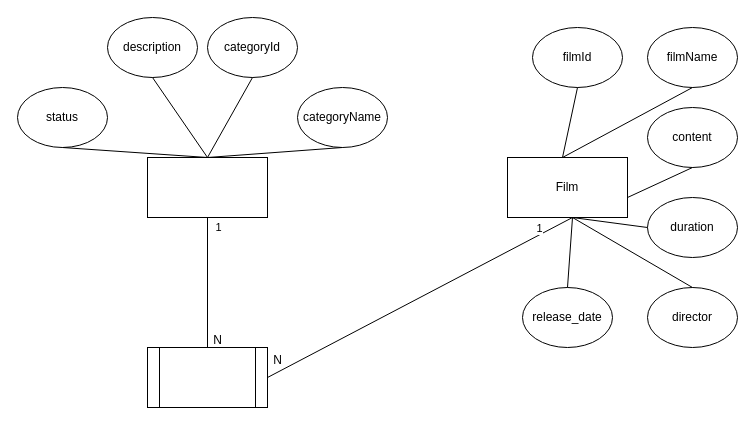
This 755x425 diagram has some shape labels left out. Here are the shapes that lost their labels. From the top down, the centre of each, then its label:
At (207,187): "Category".
At (207,377): "Category_Film".
